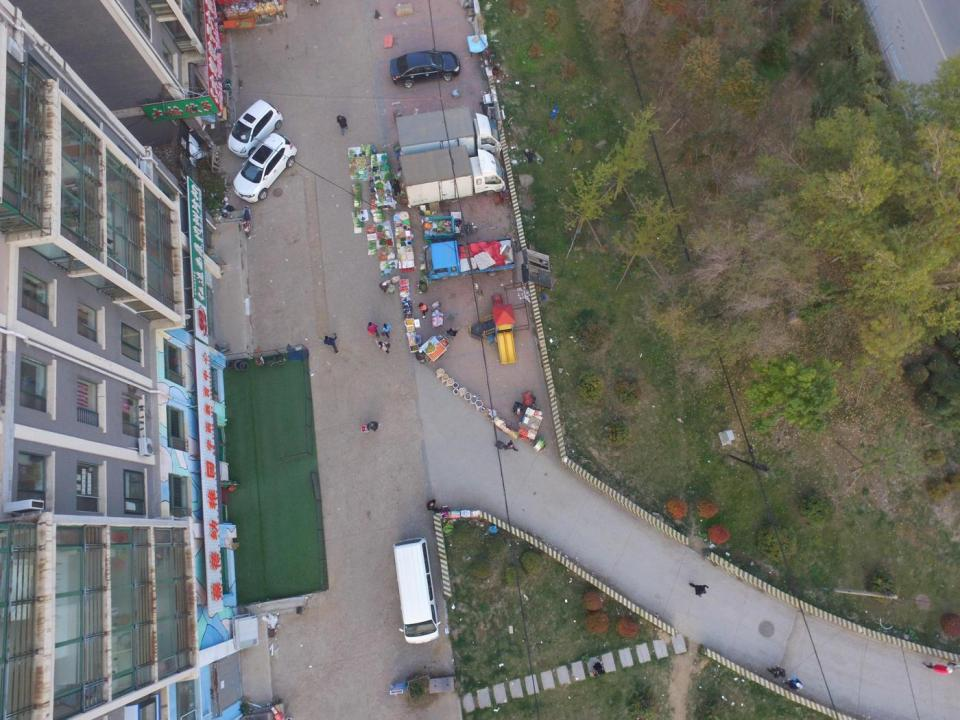car: (232, 133, 298, 202), (228, 99, 282, 158), (390, 48, 461, 87)
truck: (398, 146, 506, 206), (395, 107, 501, 163), (424, 237, 514, 283)
van: (392, 537, 441, 643)
